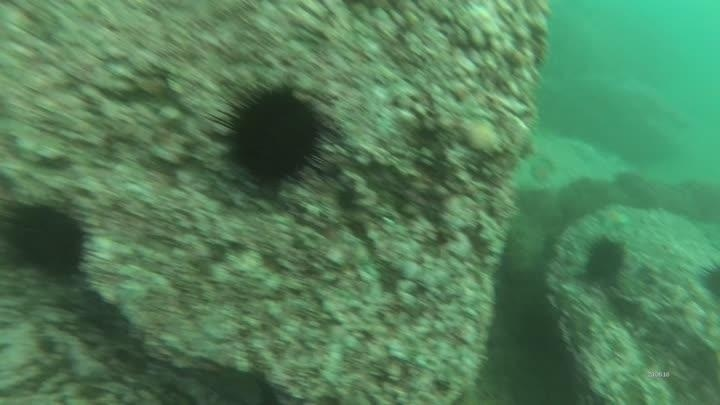echinus: (210, 77, 337, 197), (1, 195, 96, 283), (581, 234, 629, 287), (697, 258, 720, 303)
starfish: (594, 201, 633, 234), (525, 152, 558, 188)
